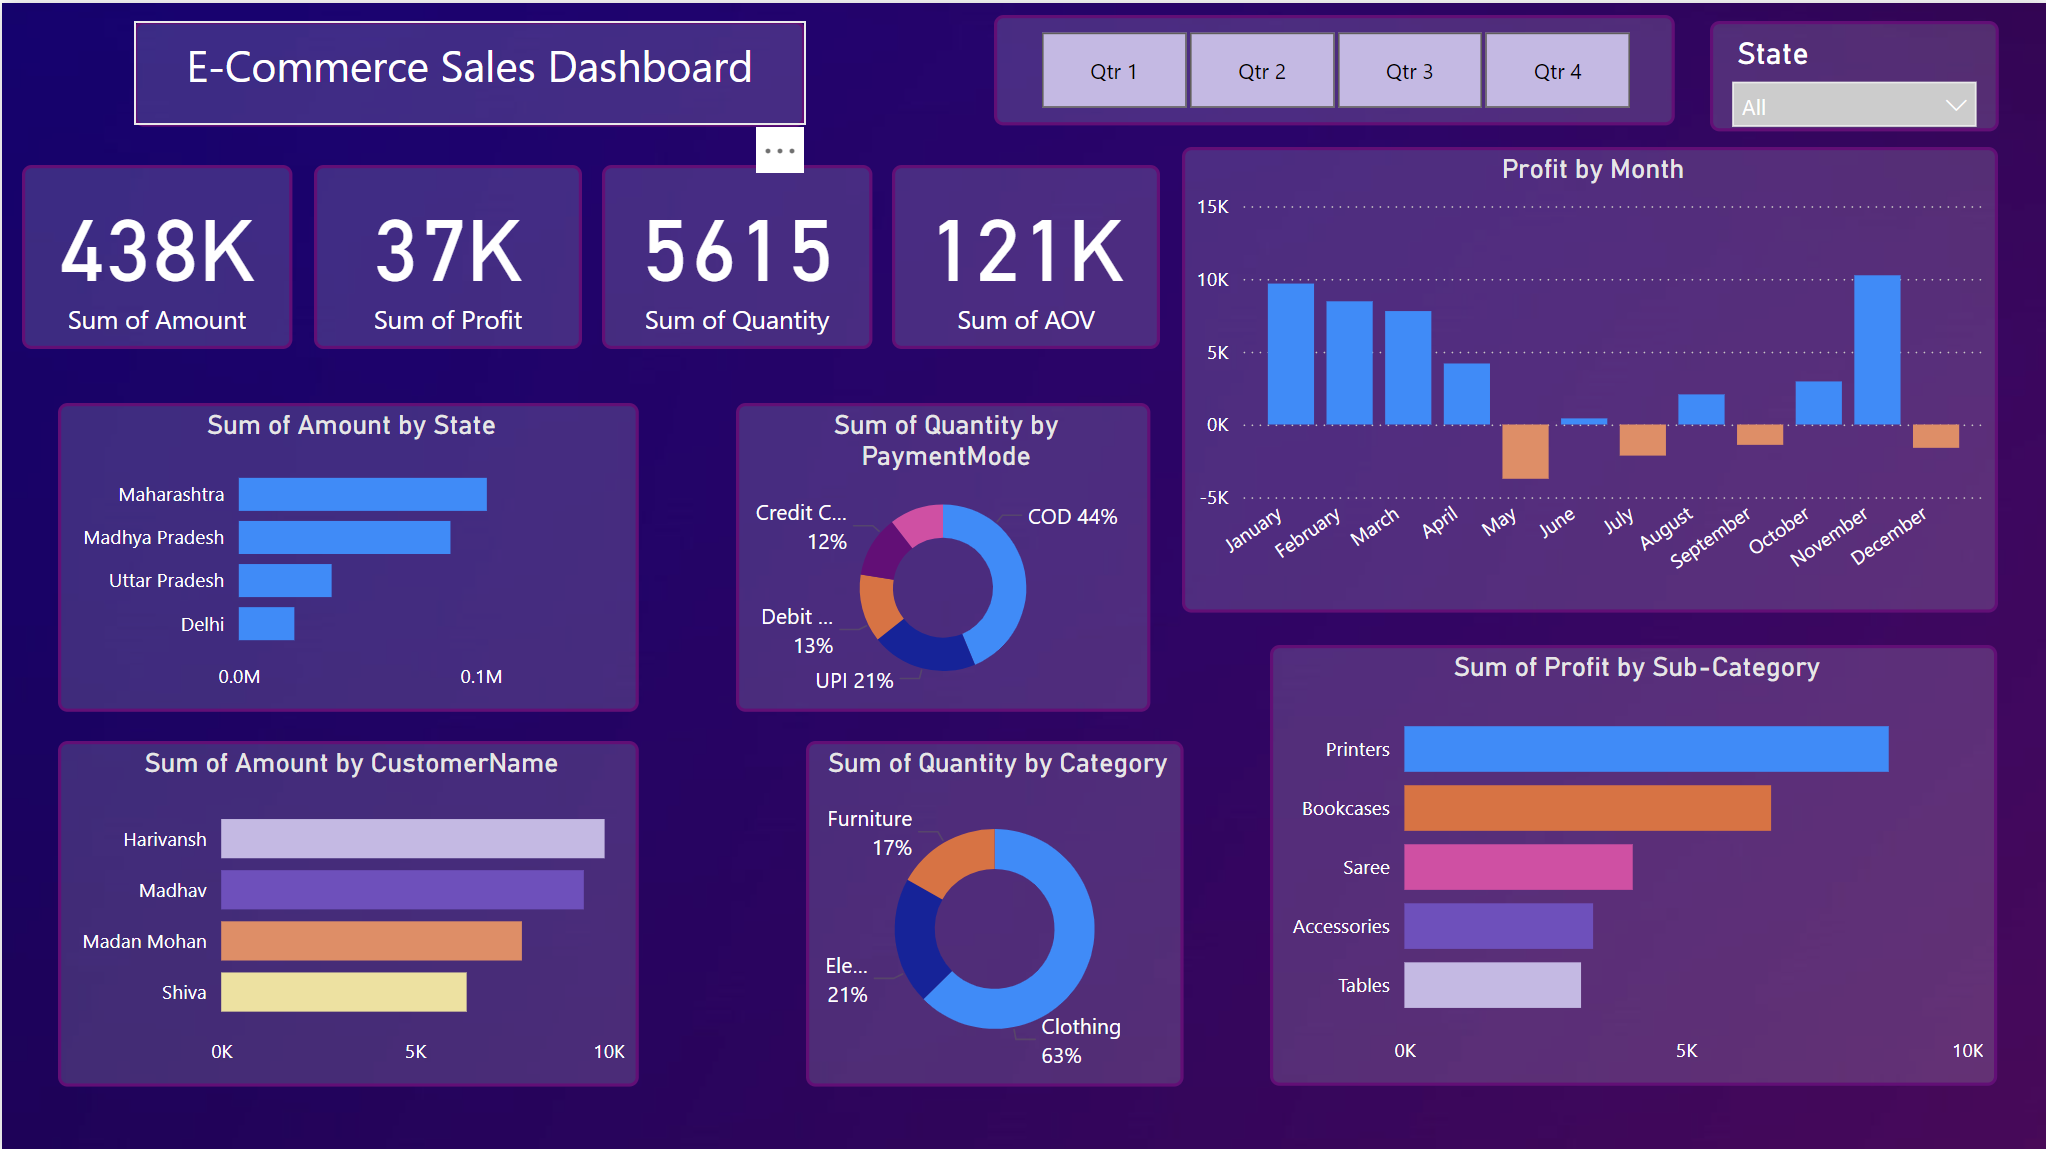

Layout of this report page (visuals, bound fields, positions):
{"tool":"powerbi","page":{"name":"Page 1","canvas":[1280,720],"ordinal":0},"visuals":[{"type":"columnChart","title":"Profit by Month","fields":{"Y":["Sum(Details.Profit)"],"Category":["Orders.Order Date.Variation.Date Hierarchy.Month"]},"box":[738,90.3,509.9,290.9],"z":0},{"type":"barChart","fields":{"Y":["Sum(Details.Profit)"],"Category":["Details.Sub-Category"]},"box":[793.1,401.1,454.7,275.6],"z":1000},{"type":"donutChart","fields":{"Category":["Details.Category"],"Y":["Sum(Details.Quantity)"]},"box":[502.2,460.9,235.8,215.9],"z":2000},{"type":"donutChart","fields":{"Y":["Sum(Details.Quantity)"],"Category":["Details.PaymentMode"]},"box":[459.3,249.6,258.8,192.9],"z":3000},{"type":"card","fields":{"Values":["Sum(Details.Amount)"]},"box":[12.2,101.1,168.4,105.6],"z":3001},{"type":"card","fields":{"Values":["Sum(Details.Profit)"]},"box":[194.4,101.1,168.4,105.6],"z":3002},{"type":"card","fields":{"Values":["Sum(Details.Quantity)"]},"box":[375.1,101.1,168.4,105.6],"z":3003},{"type":"card","fields":{"Values":["Sum(Details.AOV)"]},"box":[555.8,101.1,168.4,105.6],"z":3004},{"type":"barChart","fields":{"Category":["Orders.State"],"Y":["Sum(Details.Amount)"]},"box":[35.2,249.6,362.9,192.9],"z":3005},{"type":"barChart","fields":{"Category":["Orders.CustomerName"],"Y":["Sum(Details.Amount)"]},"box":[35,461,363,216],"z":3006},{"type":"textbox","box":[82.7,10.7,419.5,65.8],"z":3007},{"type":"slicer","fields":{"Values":["Orders.Order Date.Variation.Date Hierarchy.Quarter"]},"box":[620.1,7.7,425.6,68.9],"z":3008},{"type":"slicer","fields":{"Values":["Orders.State"]},"box":[1067.2,10.7,180.7,68.9],"z":3009}]}

Visuals, with their boxes in screenshot pixels (x1, y1, x2, y2), scaled from the page's 1280x720 canvas onto the 2046x1149 screenshot:
"Profit by Month" columnChart: BBox(1180, 144, 1995, 608)
barChart - Sum(Details.Profit) x Details.Sub-Category: BBox(1268, 640, 1995, 1080)
donutChart - Details.Category x Sum(Details.Quantity): BBox(803, 736, 1180, 1080)
donutChart - Sum(Details.Quantity) x Details.PaymentMode: BBox(734, 398, 1148, 706)
card - Sum(Details.Amount): BBox(20, 161, 289, 330)
card - Sum(Details.Profit): BBox(311, 161, 580, 330)
card - Sum(Details.Quantity): BBox(600, 161, 869, 330)
card - Sum(Details.AOV): BBox(888, 161, 1158, 330)
barChart - Orders.State x Sum(Details.Amount): BBox(56, 398, 636, 706)
barChart - Orders.CustomerName x Sum(Details.Amount): BBox(56, 736, 636, 1080)
textbox: BBox(132, 17, 803, 122)
slicer - Orders.Order Date.Variation.Date Hierarchy.Quarter: BBox(991, 12, 1671, 122)
slicer - Orders.State: BBox(1706, 17, 1995, 127)
